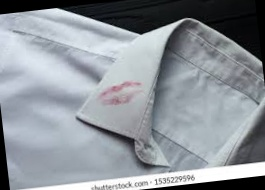lipstick: (99, 84, 144, 109)
